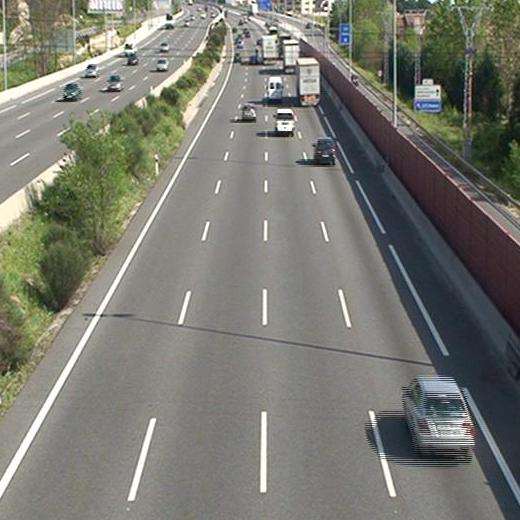car: (403, 378, 475, 455), (313, 137, 334, 165), (274, 108, 294, 135), (242, 103, 256, 122)
truck: (297, 59, 319, 104), (282, 39, 299, 72), (263, 37, 276, 66)
van: (267, 76, 282, 104)
